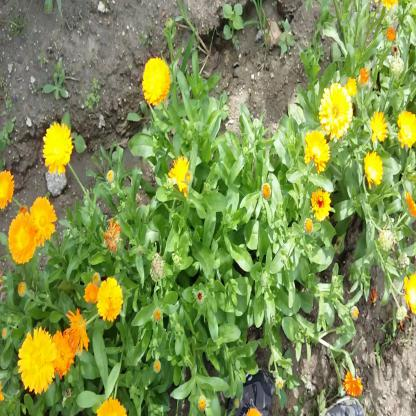marigold: (16, 328, 56, 392), (322, 83, 354, 136), (7, 215, 40, 266), (43, 121, 72, 169), (142, 57, 169, 105), (51, 330, 76, 376), (97, 278, 122, 323), (66, 307, 89, 355), (306, 130, 331, 171), (30, 199, 54, 240), (169, 152, 191, 188), (364, 149, 384, 187), (368, 108, 388, 141), (396, 104, 414, 140), (311, 188, 332, 218), (0, 170, 14, 209), (344, 369, 362, 398), (85, 282, 98, 302)
